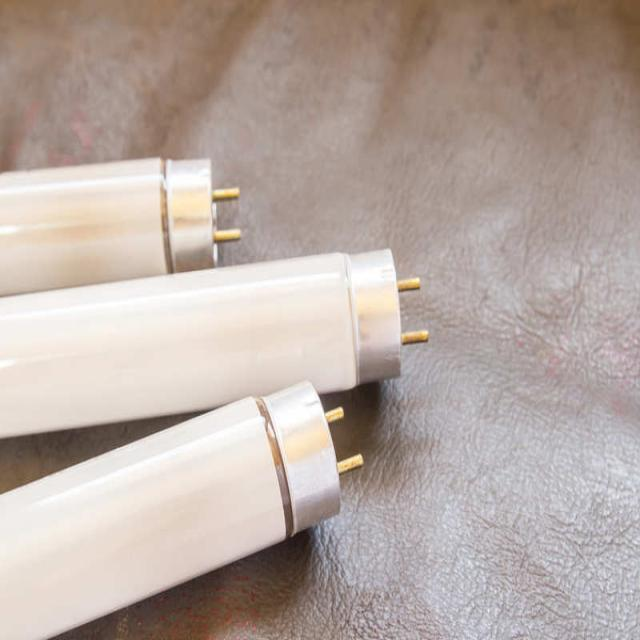tubelight_off: (0, 367, 355, 640), (0, 243, 427, 442), (0, 145, 240, 304)
